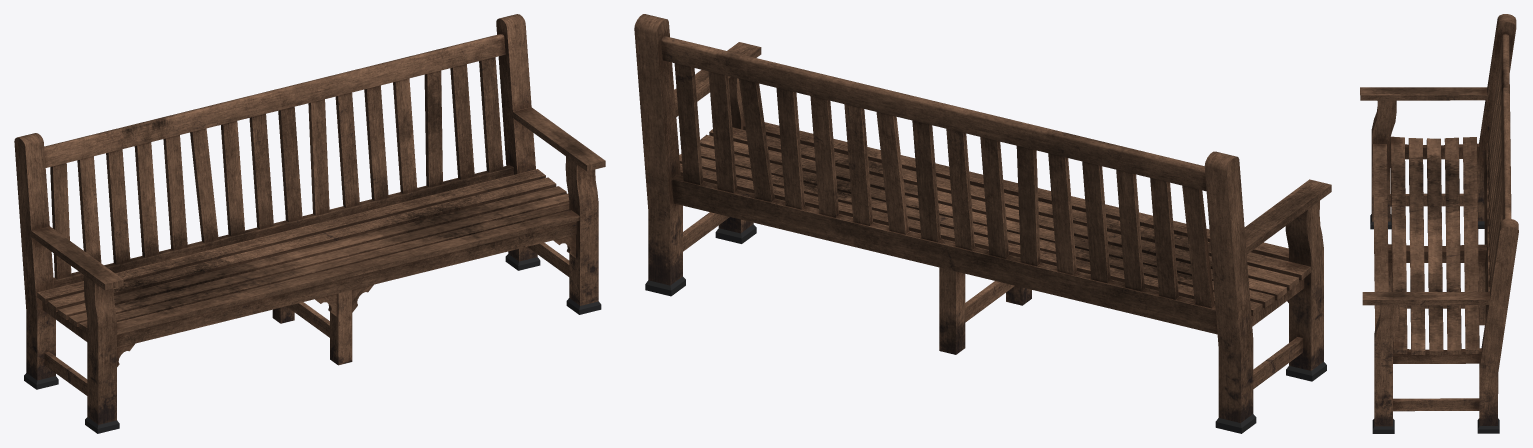
Rendered from wooden_park_bench.glb.
3 renders of one model, left to right at view 1: azimuth 30°, elevation 25°; view 2: azimuth 150°, elevation 25°; view 3: azimuth 270°, elevation 25°, orthographic. The views are drawn at different scales.
Parts seen in each view (by area): view 1: Bench; view 2: Bench; view 3: Bench.
Part boxes in pixels (x1=…): Bench: x1=14, y1=14, x2=605, y2=433; Bench: x1=634, y1=14, x2=1331, y2=433; Bench: x1=1360, y1=14, x2=1518, y2=433.
Bounding box in the file's own units: 2.66 × 1.2 × 0.8338.
Materials: 1 (1 with a texture image).
